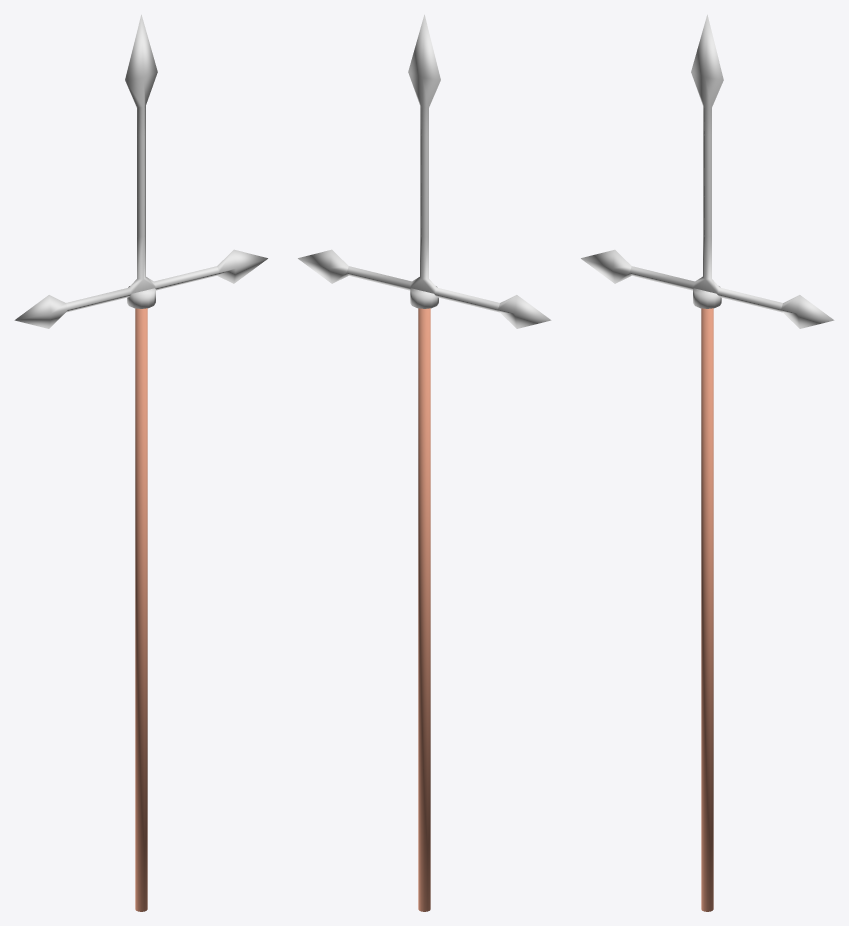
File: tiwaberosuWeapon.fbx
The picture shows the model from 3 angles, left to right: view 1: azimuth 30°, elevation 25°; view 2: azimuth 150°, elevation 25°; view 3: azimuth 330°, elevation 25°; orthographic projection.
Parts seen in each view (by area): view 1: tuka, brade; view 2: tuka, brade; view 3: tuka, brade.
Part boxes in pixels (x1=…): tuka: x1=135, y1=308, x2=147, y2=911; brade: x1=14, y1=14, x2=267, y2=328; tuka: x1=418, y1=308, x2=430, y2=911; brade: x1=298, y1=14, x2=551, y2=328; tuka: x1=701, y1=308, x2=713, y2=911; brade: x1=581, y1=14, x2=834, y2=328.
Size of the model in its own units: 191 by 642 by 18.75.
